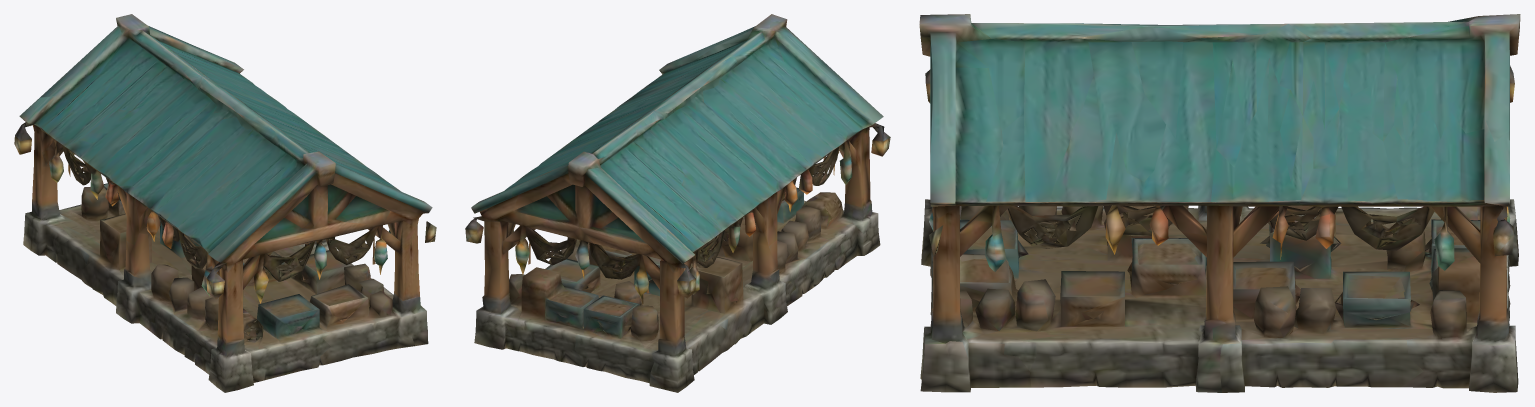
The model's file is fish-market.glb.
3 views of the same model, side by side, from view 1: azimuth 30°, elevation 25°; view 2: azimuth 150°, elevation 25°; view 3: azimuth 270°, elevation 25° (orthographic). The views are drawn at different scales.
Parts seen in each view (by area): view 1: fish-market; view 2: fish-market; view 3: fish-market.
Part boxes in pixels (x1=…): fish-market: x1=14, y1=14, x2=436, y2=392; fish-market: x1=465, y1=14, x2=890, y2=392; fish-market: x1=919, y1=14, x2=1520, y2=392.
Size of the model in its own units: 6.95 by 6 by 10.87.
1 material, 1 textured.
